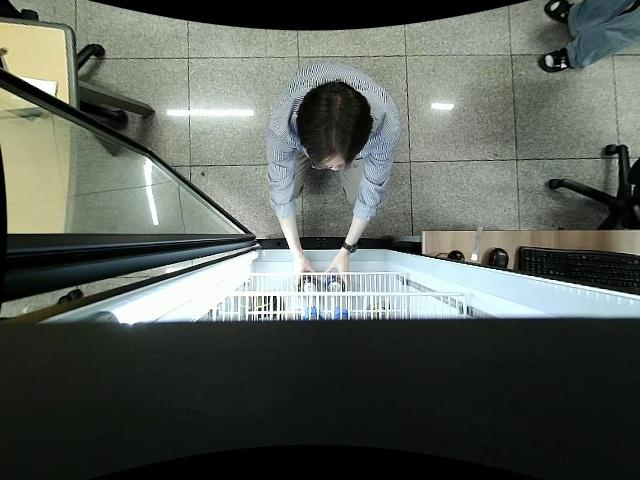00_hand: (320, 260, 352, 297), (291, 262, 319, 293)
